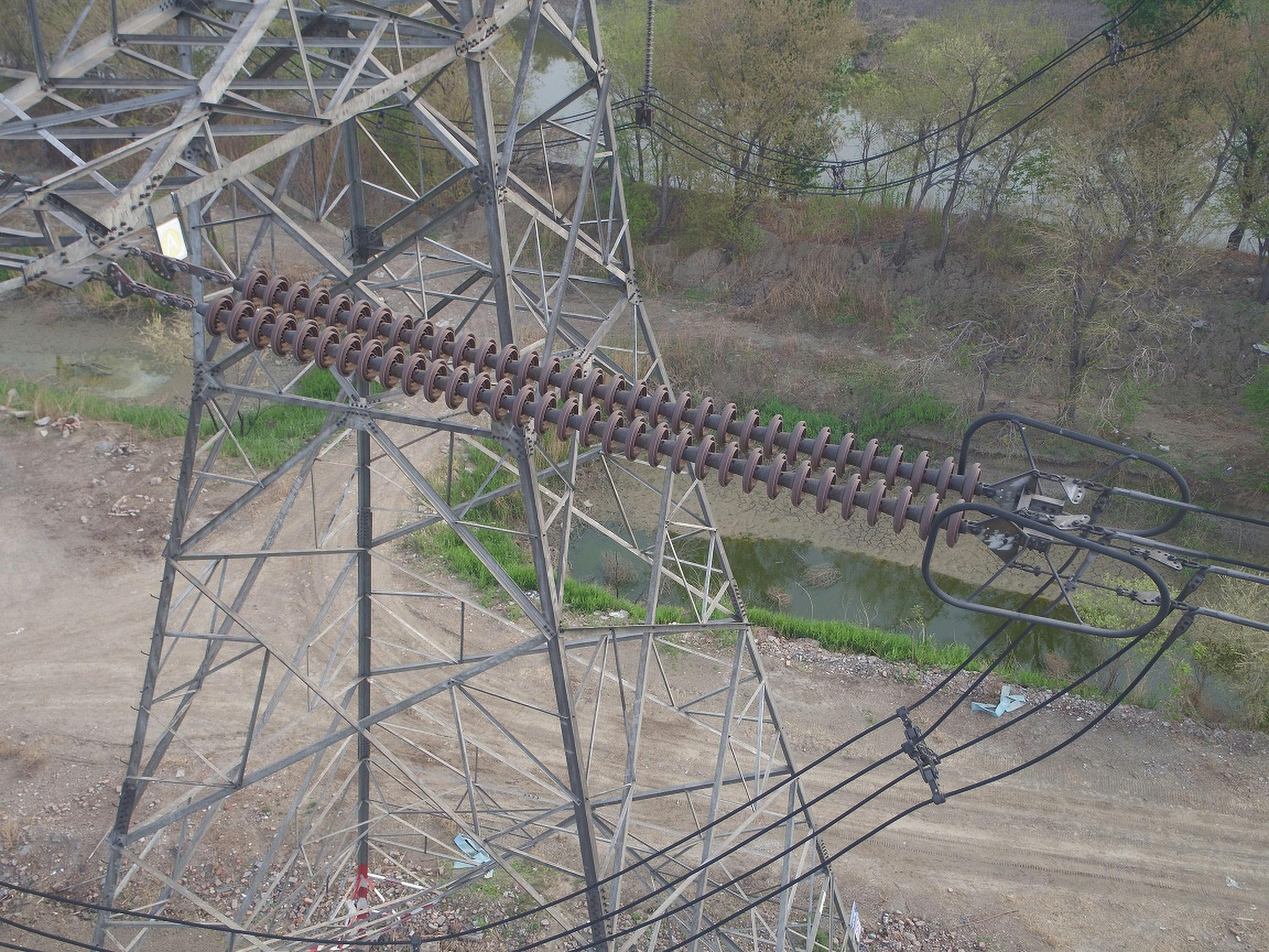insulator: (199, 264, 984, 550), (639, 1, 659, 90)
